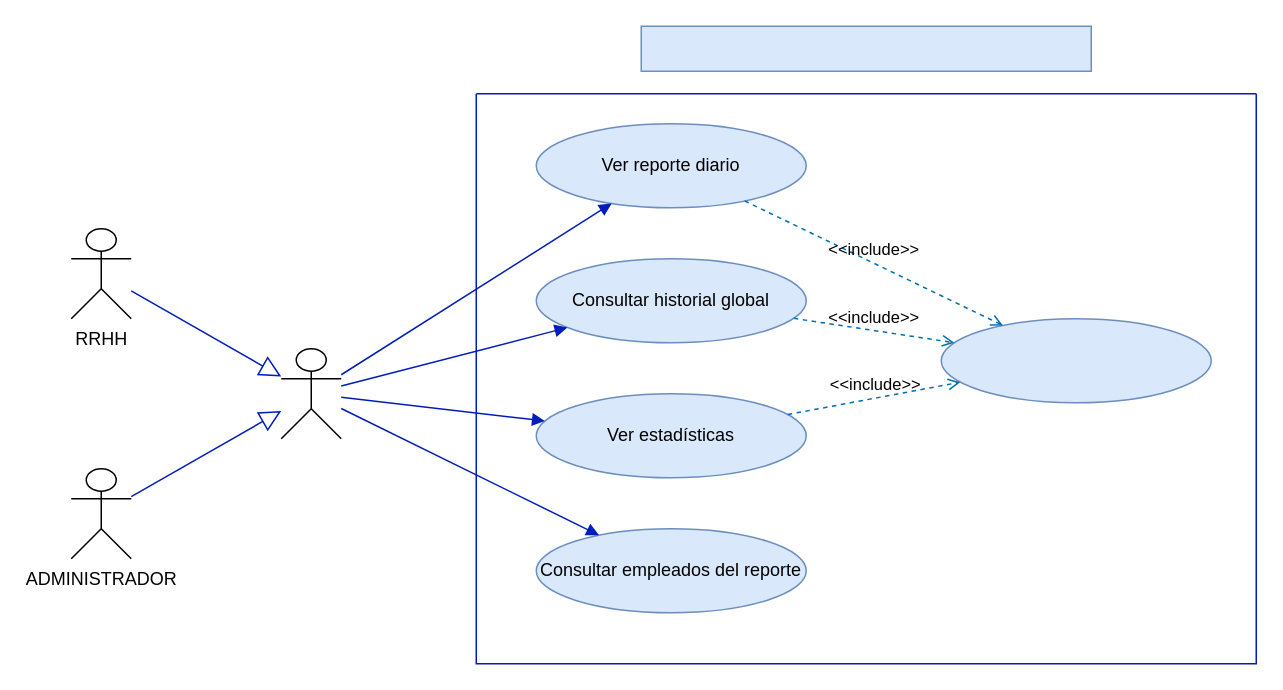
Some shapes in this 1283 by 690 pixel diagram are drawn without their labels. Each missing label, with the box of its shape:
Filtrar datos (fechas, empleado, rol, estado): (940, 317, 1211, 403)
MÓDULO: GESTIONAR REPORTES: (640, 25, 1091, 71)
RESPONSABLE: (280, 347, 341, 439)
